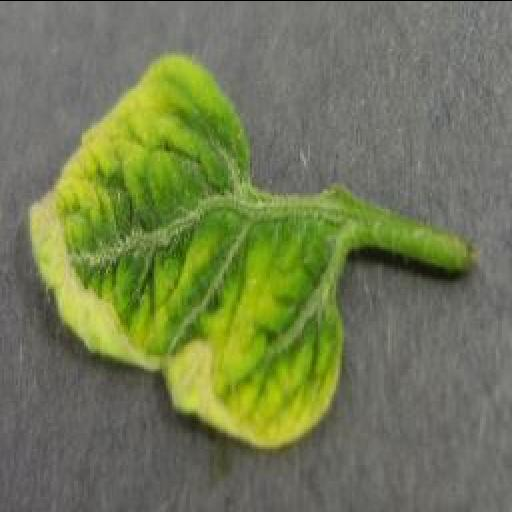disease_tomato: (30, 56, 346, 450)
